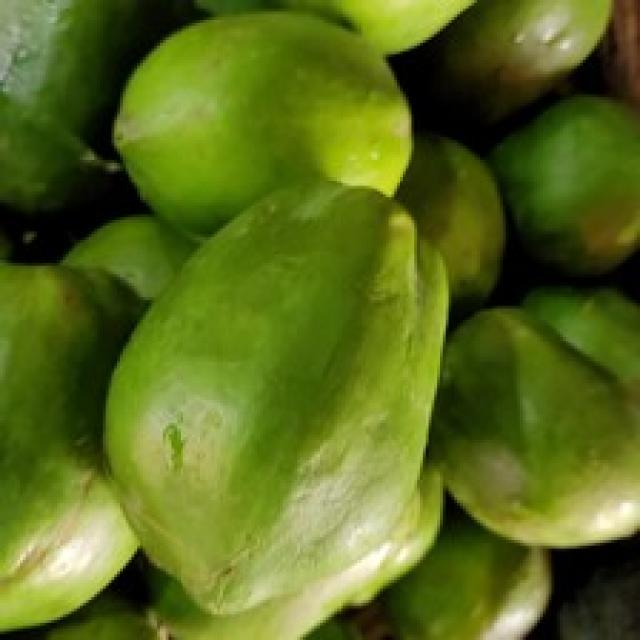Pepaya unrippen: (104, 181, 457, 615)
